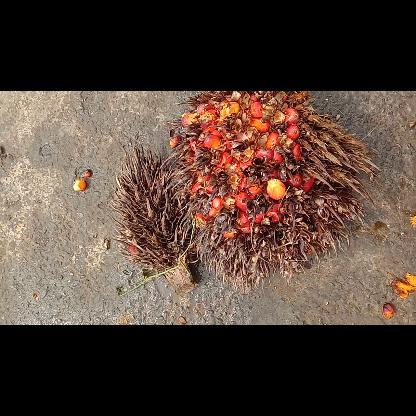Janjang kosong: (108, 145, 198, 294)
Terlalu masak: (161, 91, 381, 289)
